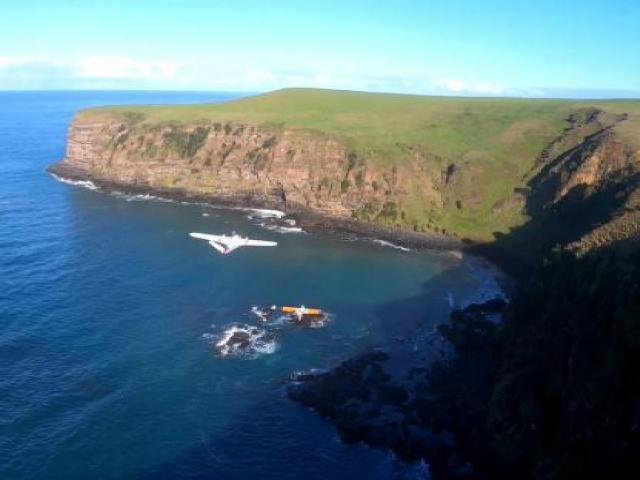uav: (188, 226, 278, 255), (276, 302, 324, 322)
